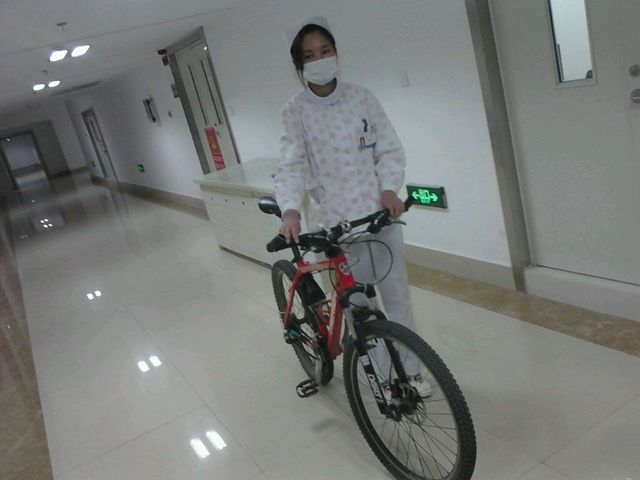face_mask: (302, 34, 338, 88)
